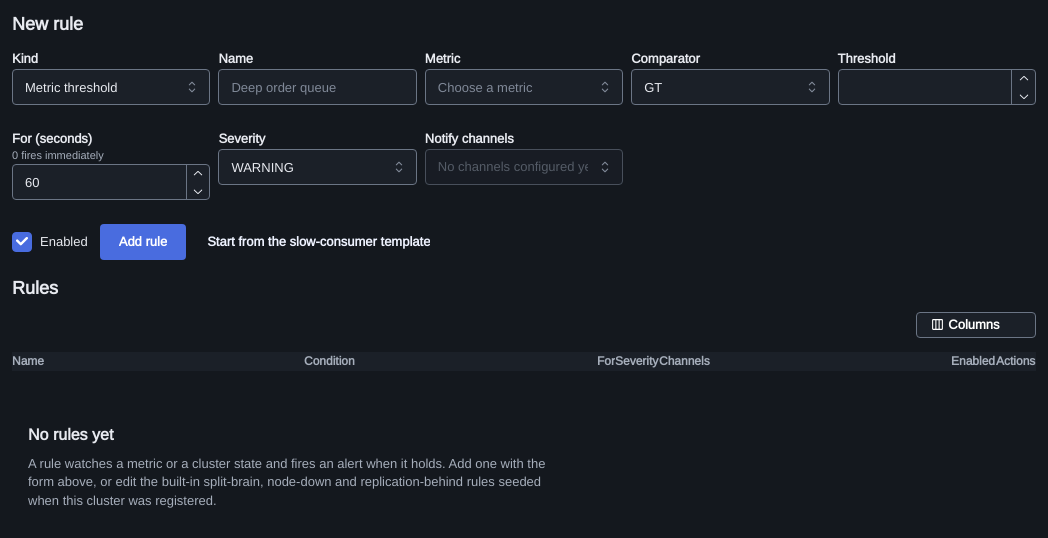
Test case: RulesPanel › says what is wrong beside a field, on blur and on submit, and focuses the first one
Expected: the text "No rules yet" is shown, [28, 423, 113, 447]
Step 1. Click the field labelled "Name" → [318, 87], box [218, 69, 417, 105]
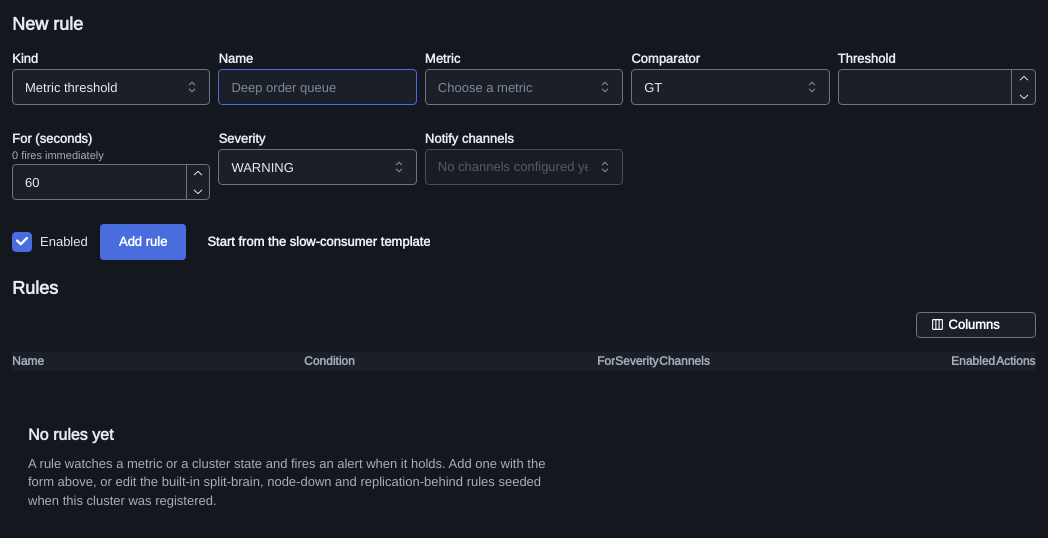
Step 2. Press Tab
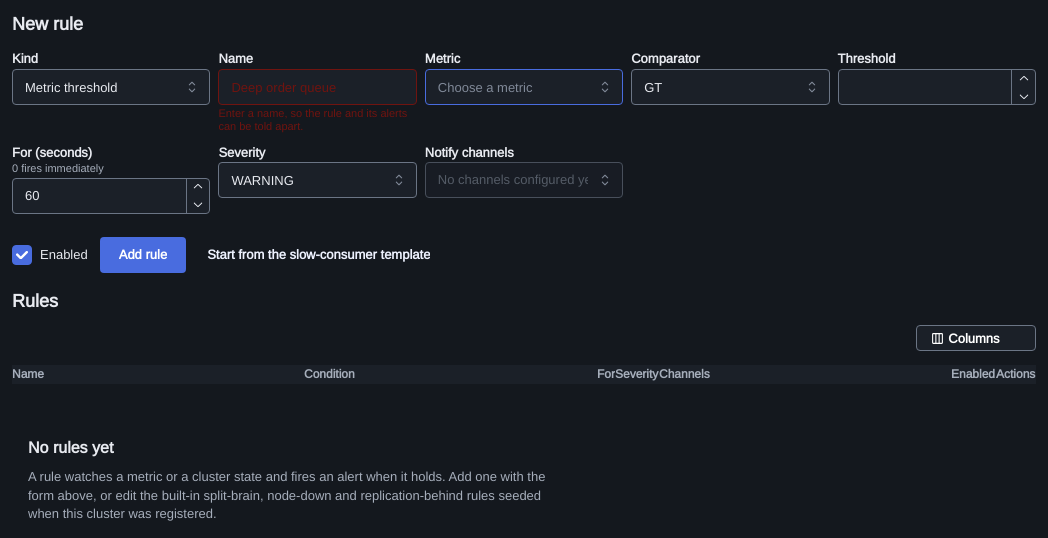
Result: the text "Enter a name, so the rule and its alerts can be told apart." is shown at [218, 107, 417, 134]
Step 3. Click the button "Add rule" → [143, 255], box [100, 237, 186, 273]
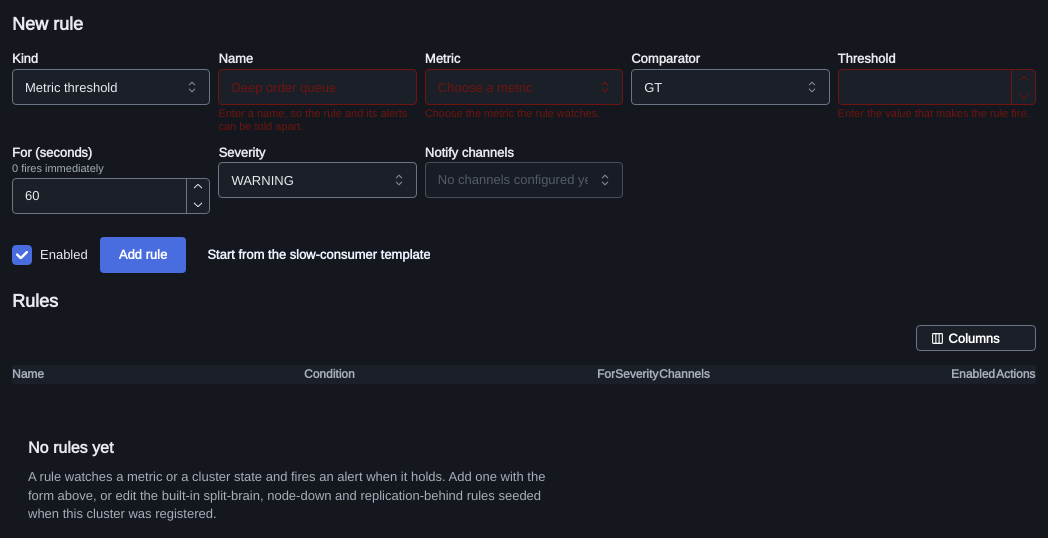
Result: the text "Choose the metric the rule watches." is shown at [425, 107, 623, 120]
Result: the text "Enter the value that makes the rule fire." is shown at [838, 107, 1036, 120]
